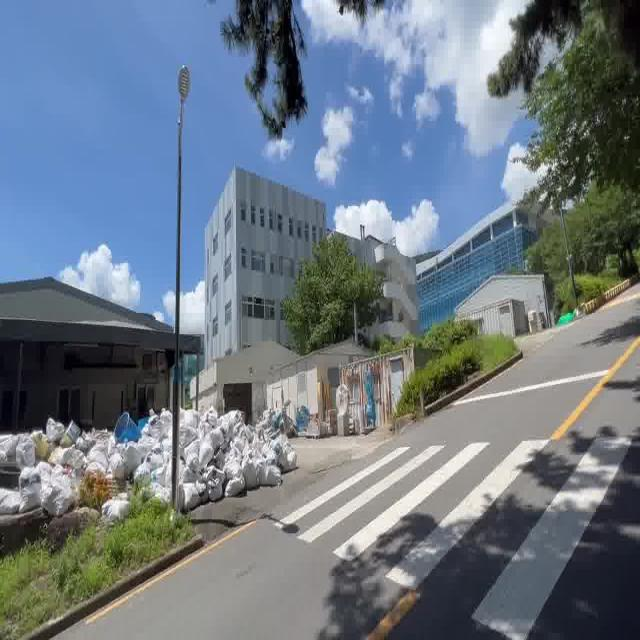building: (199, 171, 291, 372)
